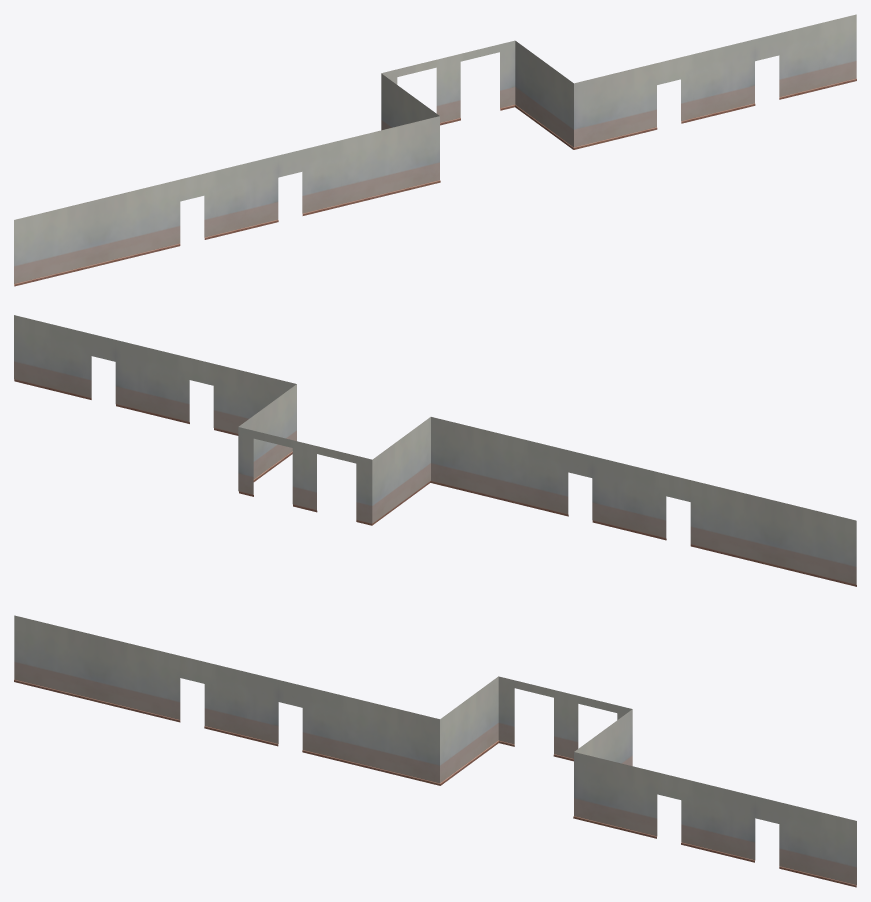
Rendered from YYZL_Qiang1_fbx.FBX.
3 renders of one model, top to bottom at view 1: azimuth 30°, elevation 25°; view 2: azimuth 150°, elevation 25°; view 3: azimuth 330°, elevation 25°, orthographic.
Parts seen in each view (by area): view 1: Object041; view 2: Object041; view 3: Object041.
Part boxes in pixels (<box>): Object041: <box>14,14,856,286</box>; Object041: <box>14,315,856,586</box>; Object041: <box>14,615,856,887</box>.
Size of the model in its own units: 48.54 by 3.66 by 5.86.
